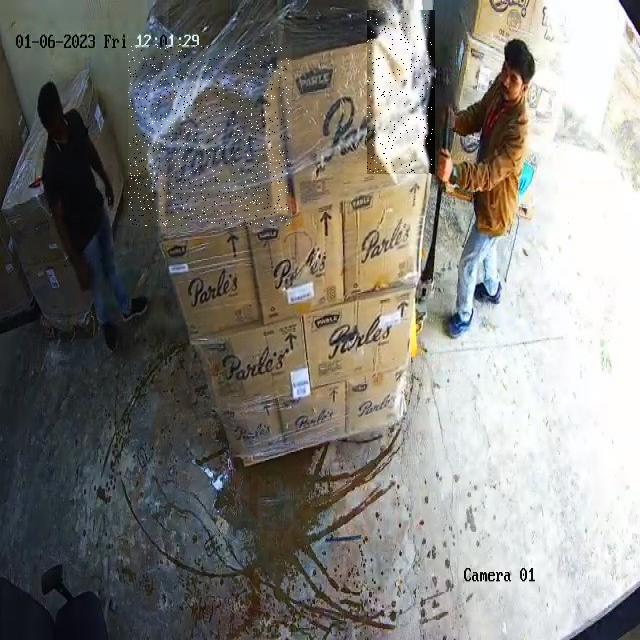squeeze: (128, 46, 290, 226), (368, 11, 433, 173)
